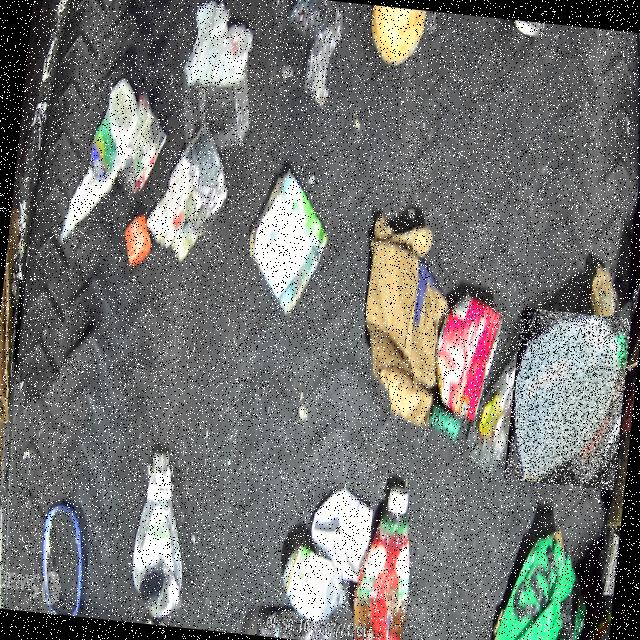milk-jug: (502, 306, 630, 490)
